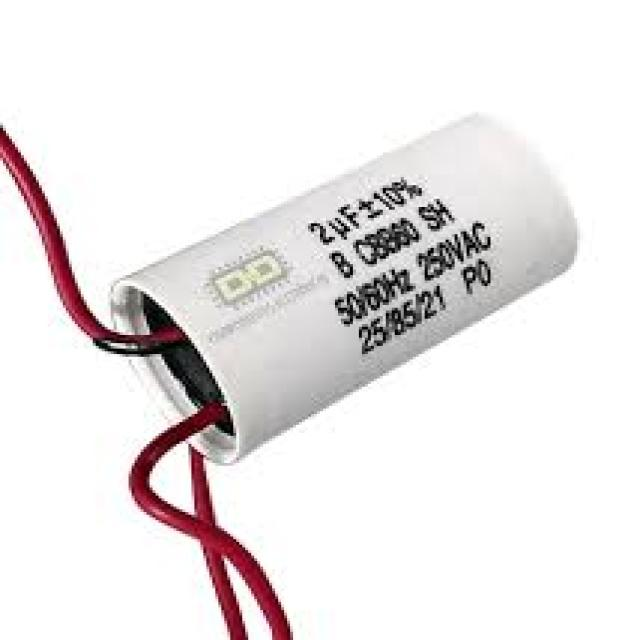Capacitor: (111, 109, 589, 468)
